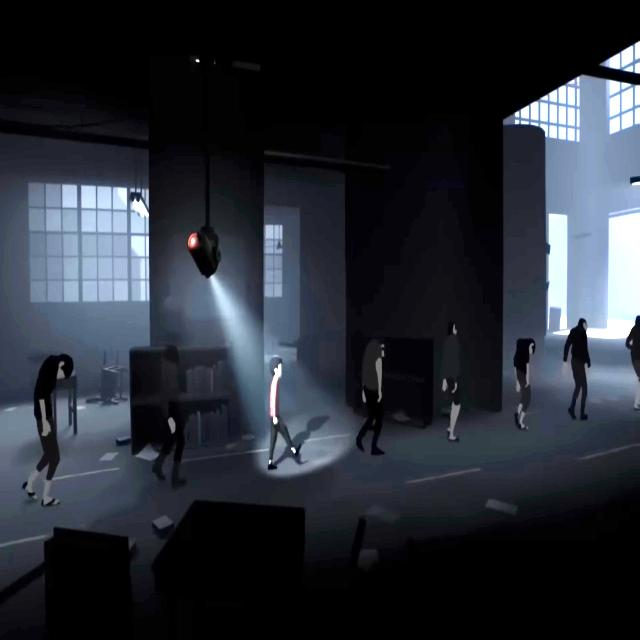boy: (268, 355, 302, 470)
zombie: (22, 353, 74, 507), (152, 345, 185, 488), (357, 340, 388, 455), (562, 318, 590, 421), (443, 319, 462, 442), (514, 338, 536, 430), (626, 316, 640, 410)
